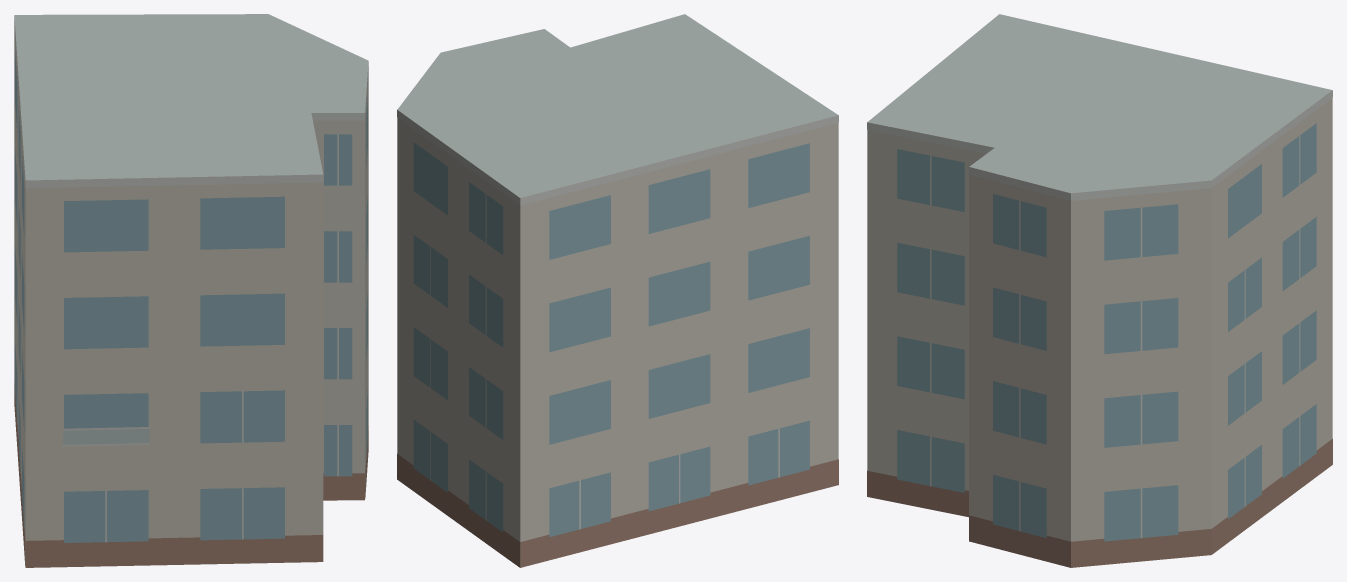
File: survey-upis-32808973.glb
3 renders of one model, left to right at view 1: azimuth 30°, elevation 25°; view 2: azimuth 150°, elevation 25°; view 3: azimuth 270°, elevation 25°, orthographic. The views are drawn at different scales.
Parts seen in each view (by area): view 1: survey-upis-32808973.tmp; view 2: survey-upis-32808973.tmp; view 3: survey-upis-32808973.tmp.
Part boxes in pixels (<box>): survey-upis-32808973.tmp: <box>14,14,368,567</box>; survey-upis-32808973.tmp: <box>397,14,838,567</box>; survey-upis-32808973.tmp: <box>867,14,1332,567</box>.
Bounding box in the file's own units: 12.42 × 12.09 × 13.63.
